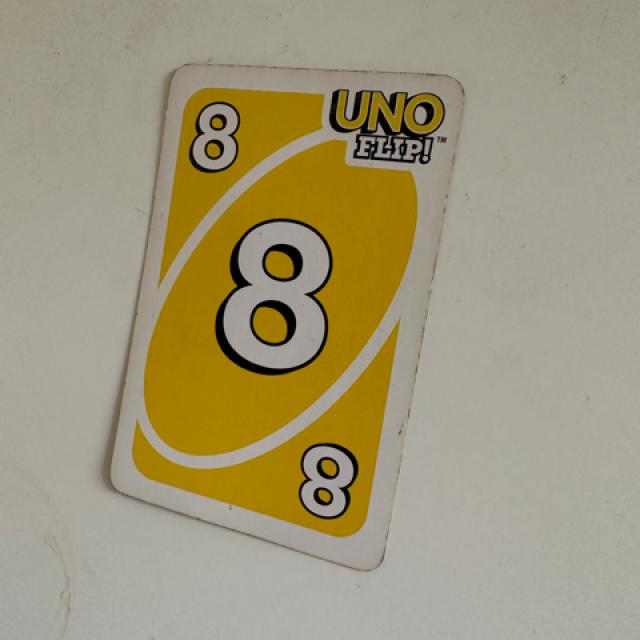lyellow-8: (180, 84, 258, 188)
